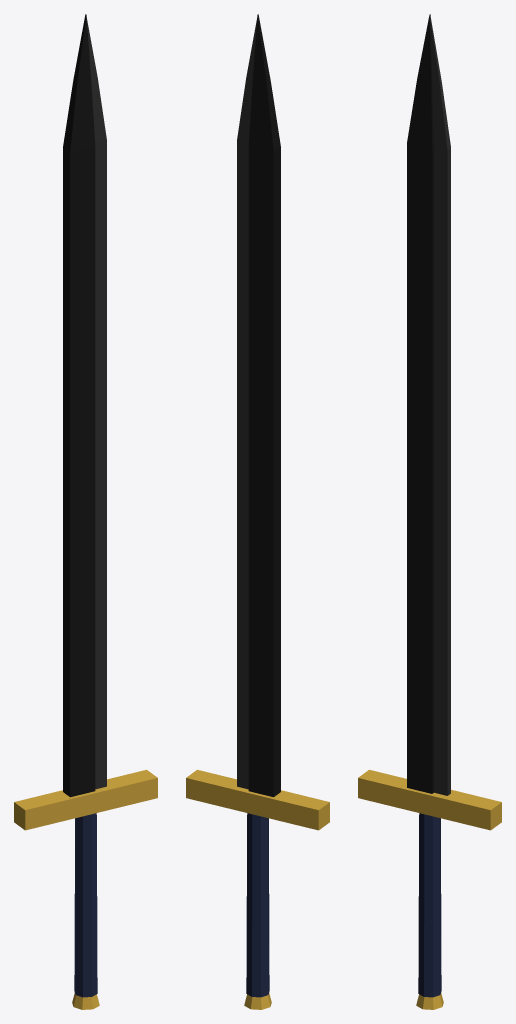
Rendered from Sword_Yoru.fbx.
3 views of the same model, side by side, from view 1: azimuth 30°, elevation 25°; view 2: azimuth 150°, elevation 25°; view 3: azimuth 330°, elevation 25° (orthographic).
Visible parts, largest first — view 1: Sword_Yoru; view 2: Sword_Yoru; view 3: Sword_Yoru.
Part boxes in pixels (box(x1,y1,x2,y2)): Sword_Yoru: box(14, 14, 157, 1009); Sword_Yoru: box(186, 14, 329, 1009); Sword_Yoru: box(358, 14, 501, 1009).
Bounding box in the file's own units: 0.96 × 6.84 × 0.18.
Materials: 1 (1 with a texture image).
